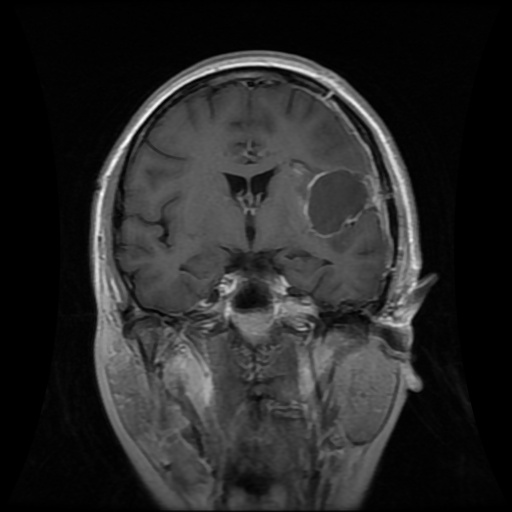glioma: (304, 168, 377, 236)
